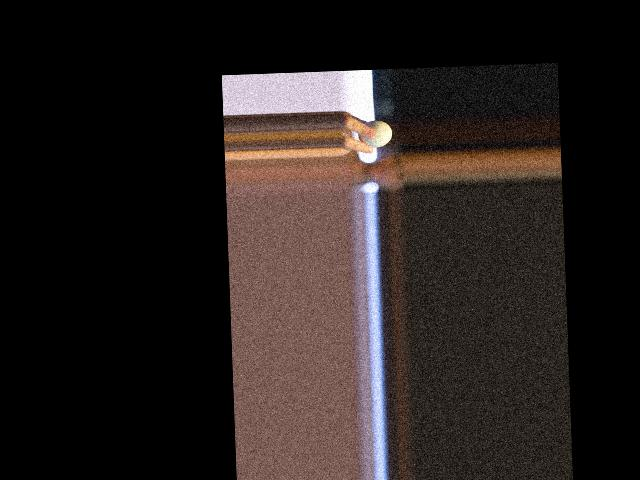egg: (357, 120, 392, 149)
